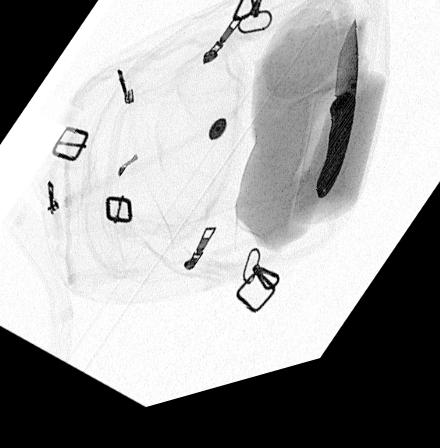Knife: (314, 38, 357, 218)
